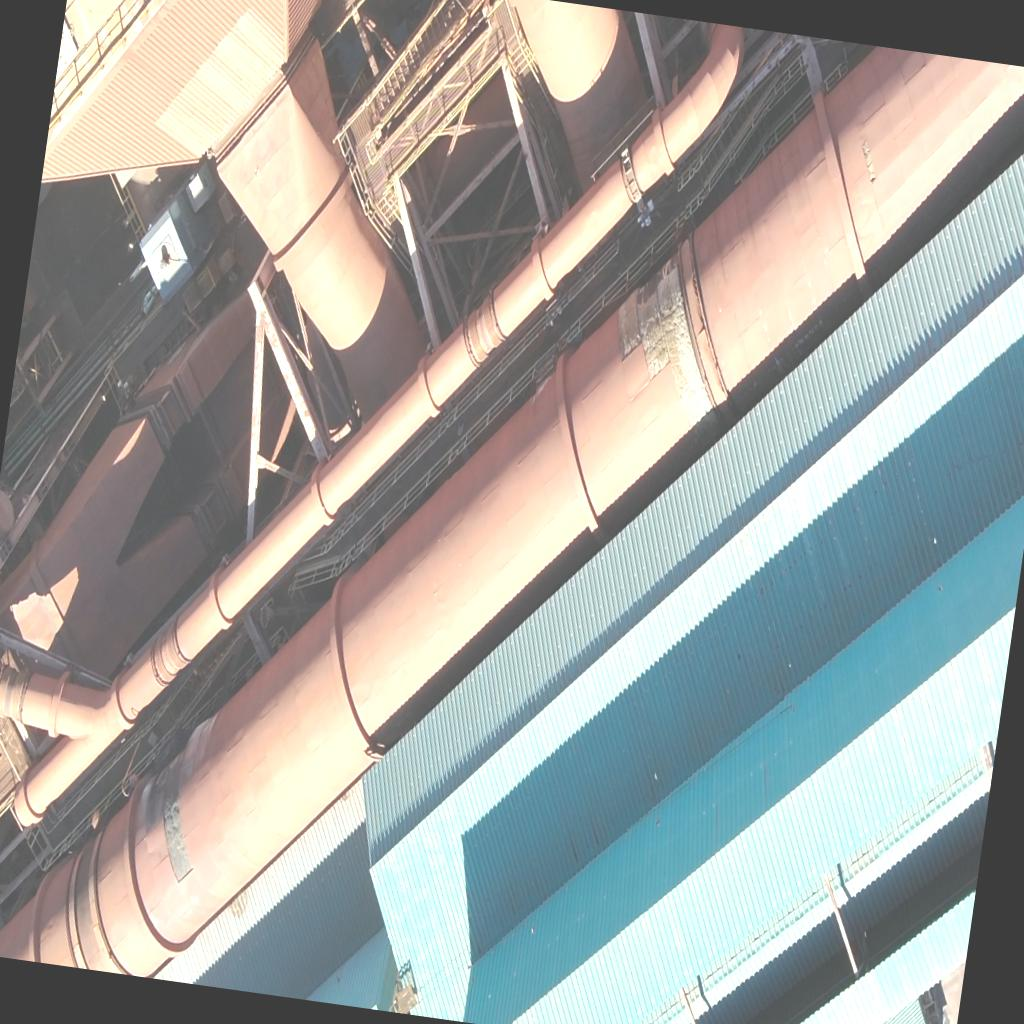Failures: (645, 264, 740, 444), (150, 764, 208, 885), (631, 278, 678, 382), (609, 290, 647, 366), (857, 143, 882, 183)
